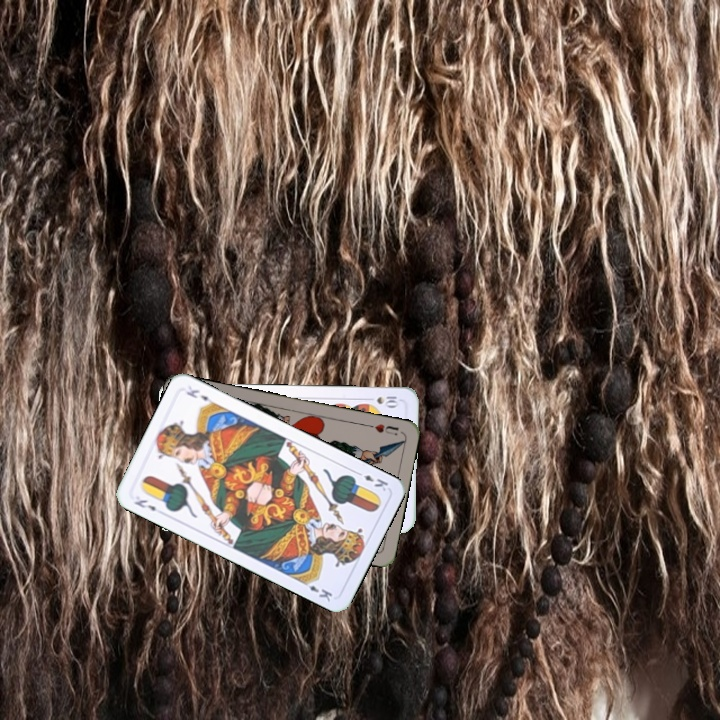EK: (352, 467, 391, 494), (130, 495, 158, 514)
HU: (363, 420, 401, 438)
S10: (373, 392, 401, 409)
